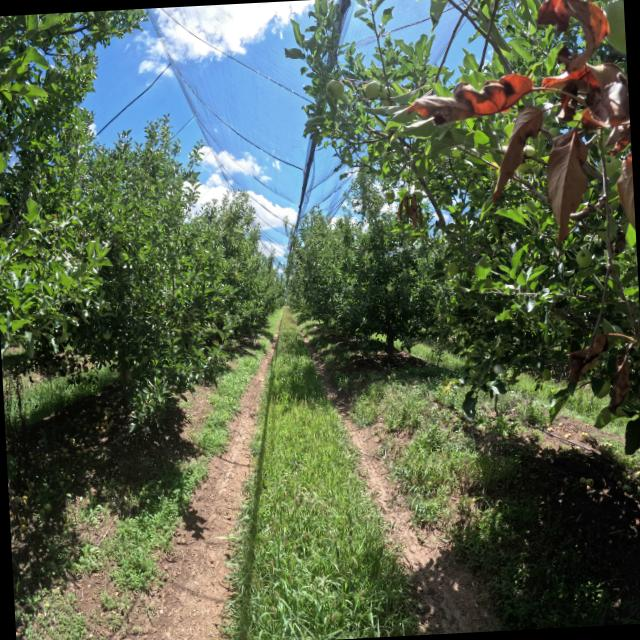-FireBlight-: (399, 0, 634, 243), (543, 332, 626, 409), (386, 190, 436, 232)
